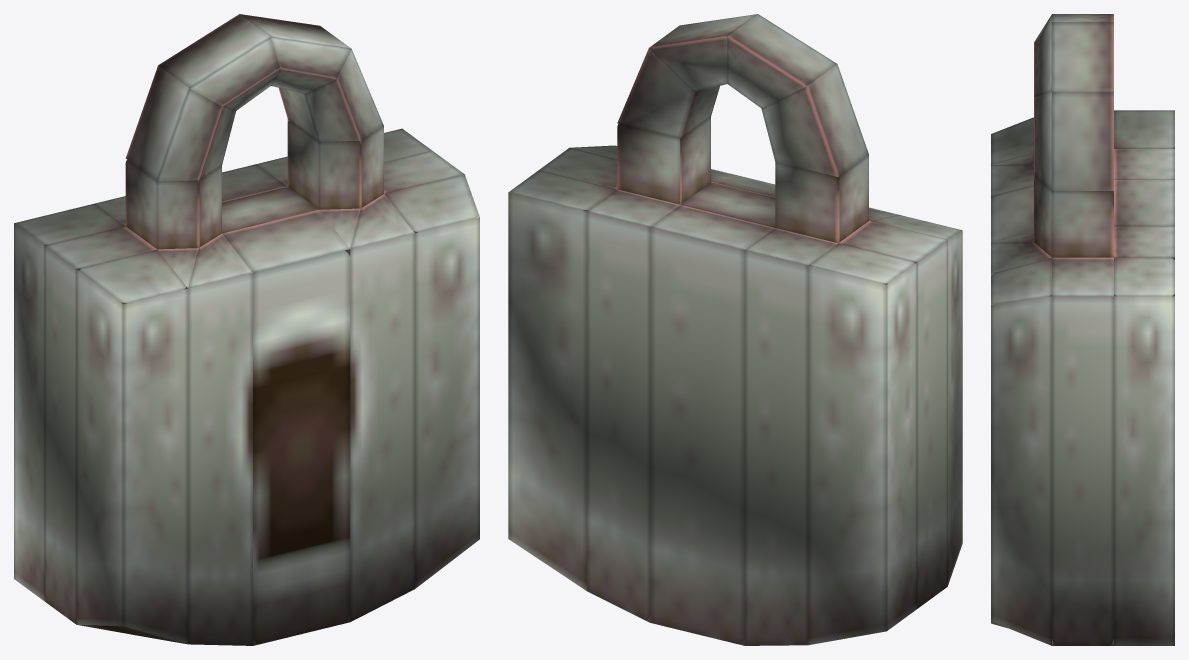
3 views of the same model, side by side, from view 1: azimuth 30°, elevation 25°; view 2: azimuth 150°, elevation 25°; view 3: azimuth 270°, elevation 25° (orthographic). The views are drawn at different scales.
Visible parts, largest first — view 1: T1L3M001_19; view 2: T1L3M001_19; view 3: T1L3M001_19.
Boxes of the visible parts, box(x1,y1,x2,y2) form: T1L3M001_19: box(14, 14, 479, 645); T1L3M001_19: box(508, 14, 962, 645); T1L3M001_19: box(991, 14, 1174, 645).
Size of the model in its own units: 0.4795 by 0.6973 by 0.2002.
